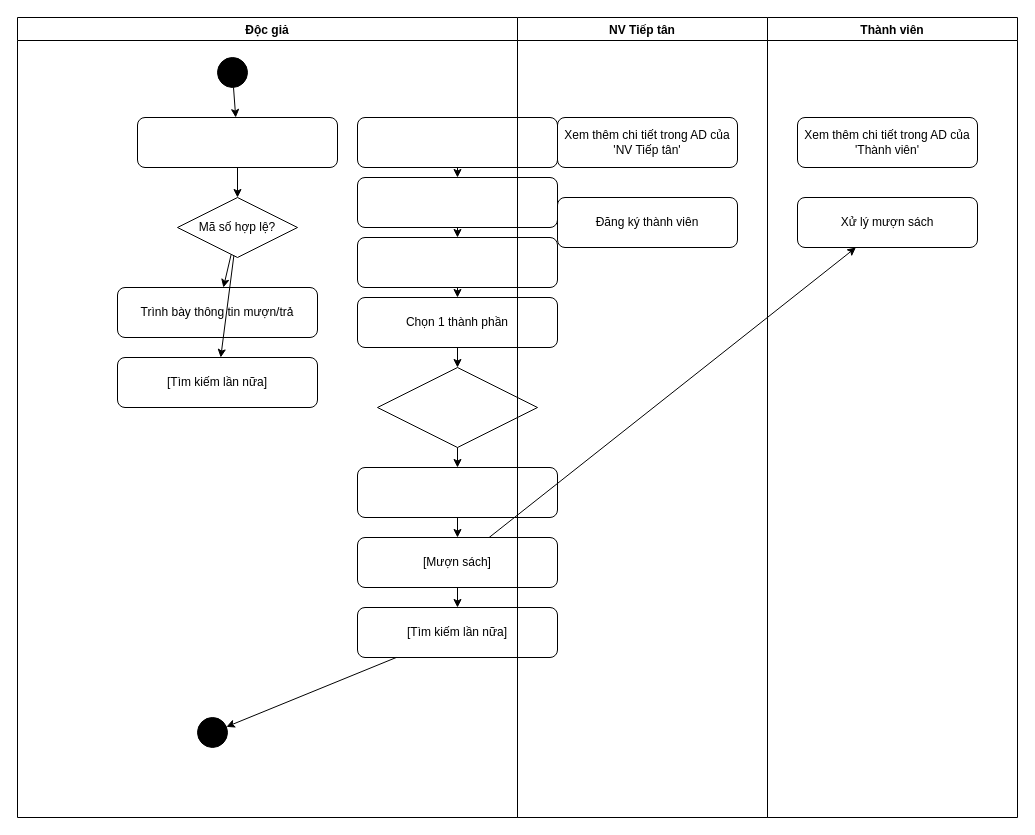
Some shapes in this 1035 by 835 pixel diagram are drawn without their labels. The shapes that lost their labels are listed below. From the top down, each one's centre as x and y in pixels, then its label:
At pixel 237 142: "Nhập mã số sách/tạp chí".
At pixel 457 142: "Chọn loại tìm kiếm".
At pixel 457 202: "Nhập thông tin cần truy vấn".
At pixel 457 262: "Liệt kê danh sách kết quả".
At pixel 457 407: "Xem lịch sử mượn/trả?".
At pixel 457 492: "Trình bày thông tin sách".
